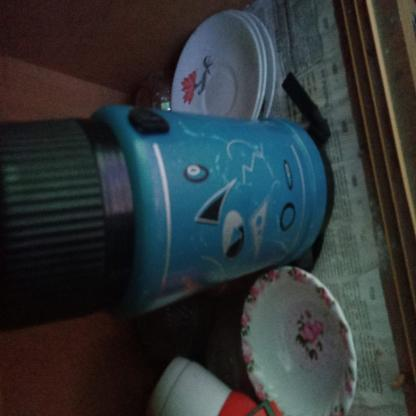bottle: (63, 3, 259, 416)
